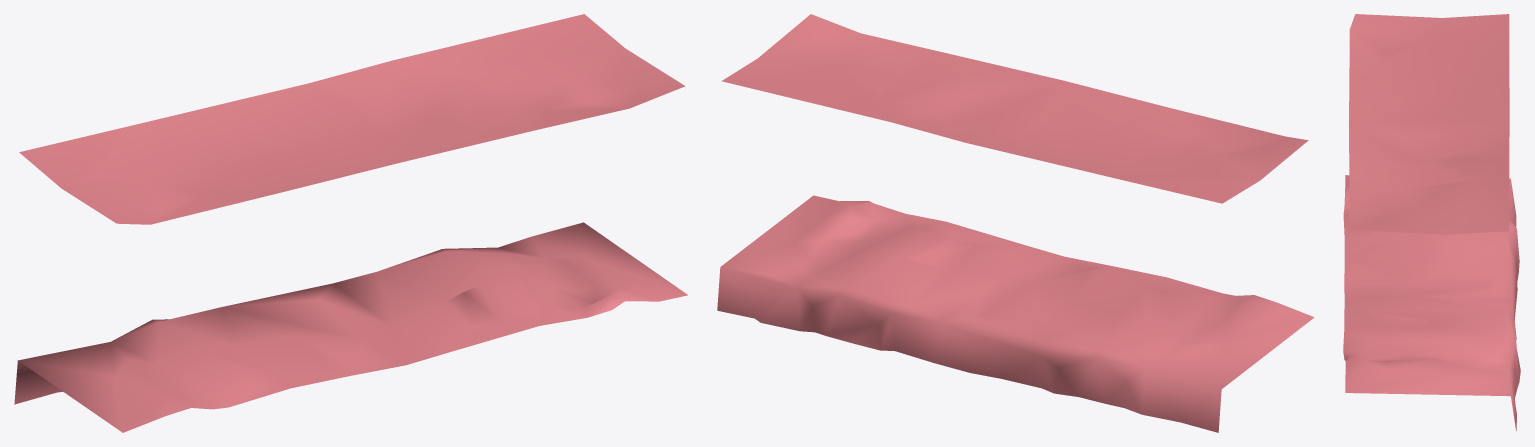
The model's file is 1x1 Lip.fbx.
The picture shows the model from 3 angles, left to right: view 1: azimuth 30°, elevation 25°; view 2: azimuth 150°, elevation 25°; view 3: azimuth 270°, elevation 25°; orthographic projection. The views are drawn at different scales.
Parts seen in each view (by area): view 1: 1x1 Lip_low; view 2: 1x1 Lip_low; view 3: 1x1 Lip_low.
Boxes of the visible parts, left/top/right/bottom form: 1x1 Lip_low: left=14, top=14, right=687, bottom=432; 1x1 Lip_low: left=717, top=14, right=1314, bottom=432; 1x1 Lip_low: left=1343, top=14, right=1520, bottom=430.
Bounding box in the file's own units: 270 × 118 × 92.98.
